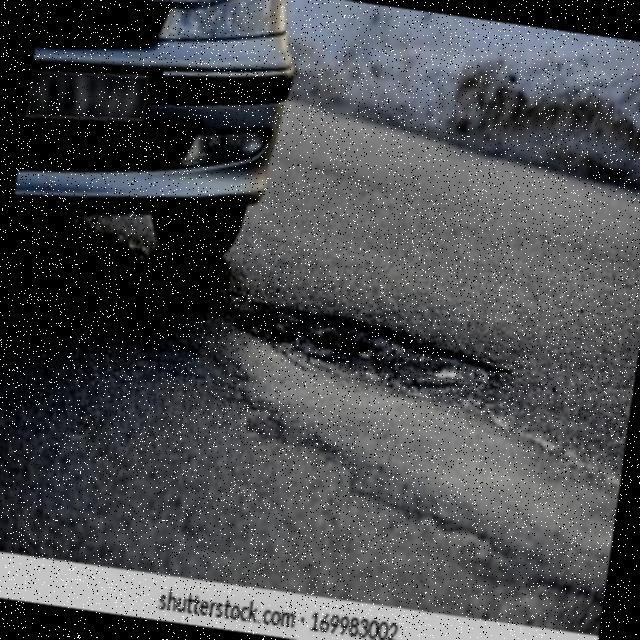Pothole: (234, 309, 505, 411)
